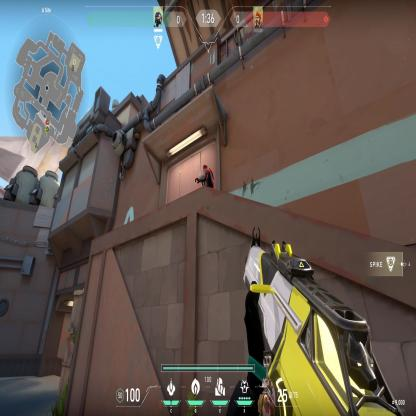enemy: (194, 164, 216, 190)
